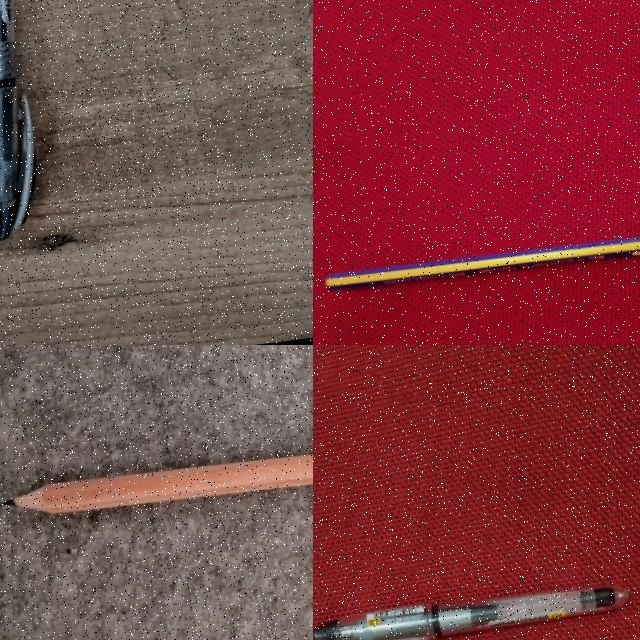pen: (313, 587, 628, 639), (0, 0, 35, 240)
pencil: (8, 455, 312, 513), (326, 239, 639, 289)
